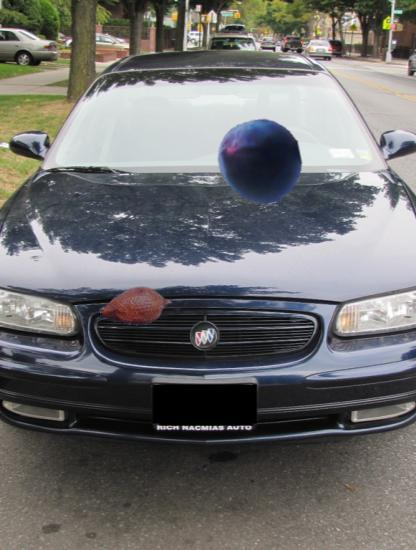Plum: (217, 119, 304, 206)
Salak: (99, 269, 174, 344)
